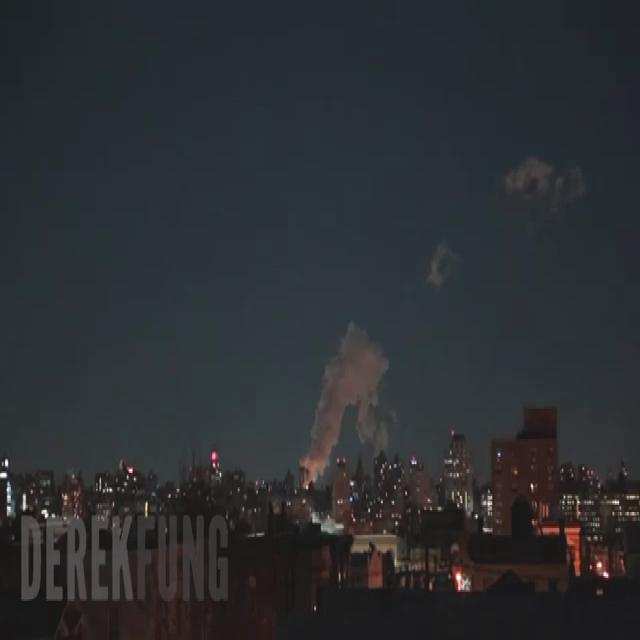smoke: (300, 324, 388, 478)
